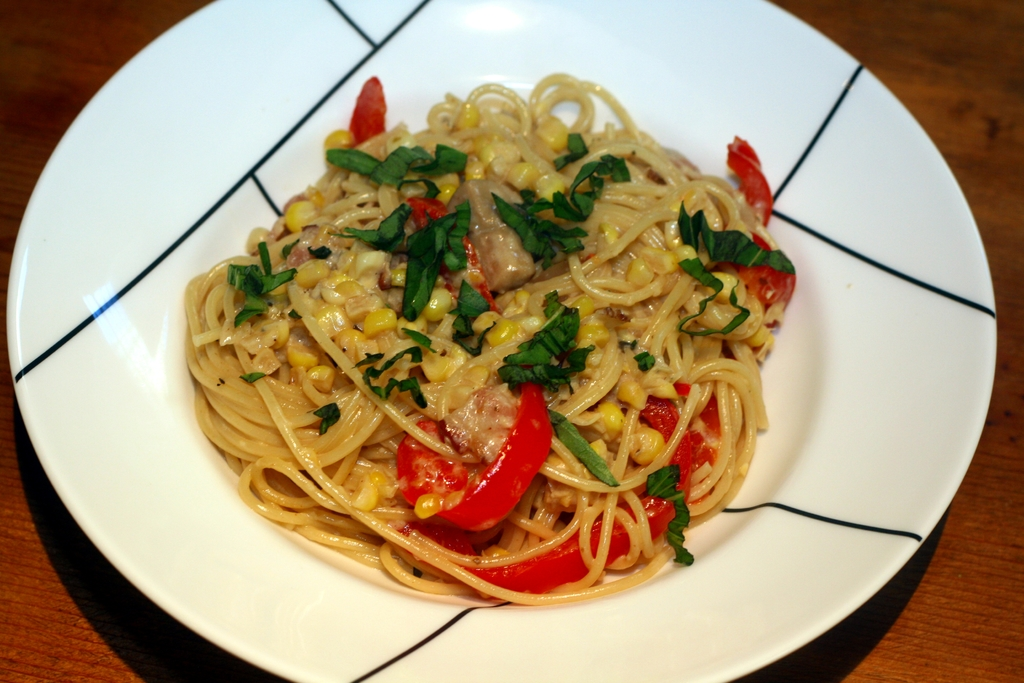pasta: (185, 62, 794, 616)
